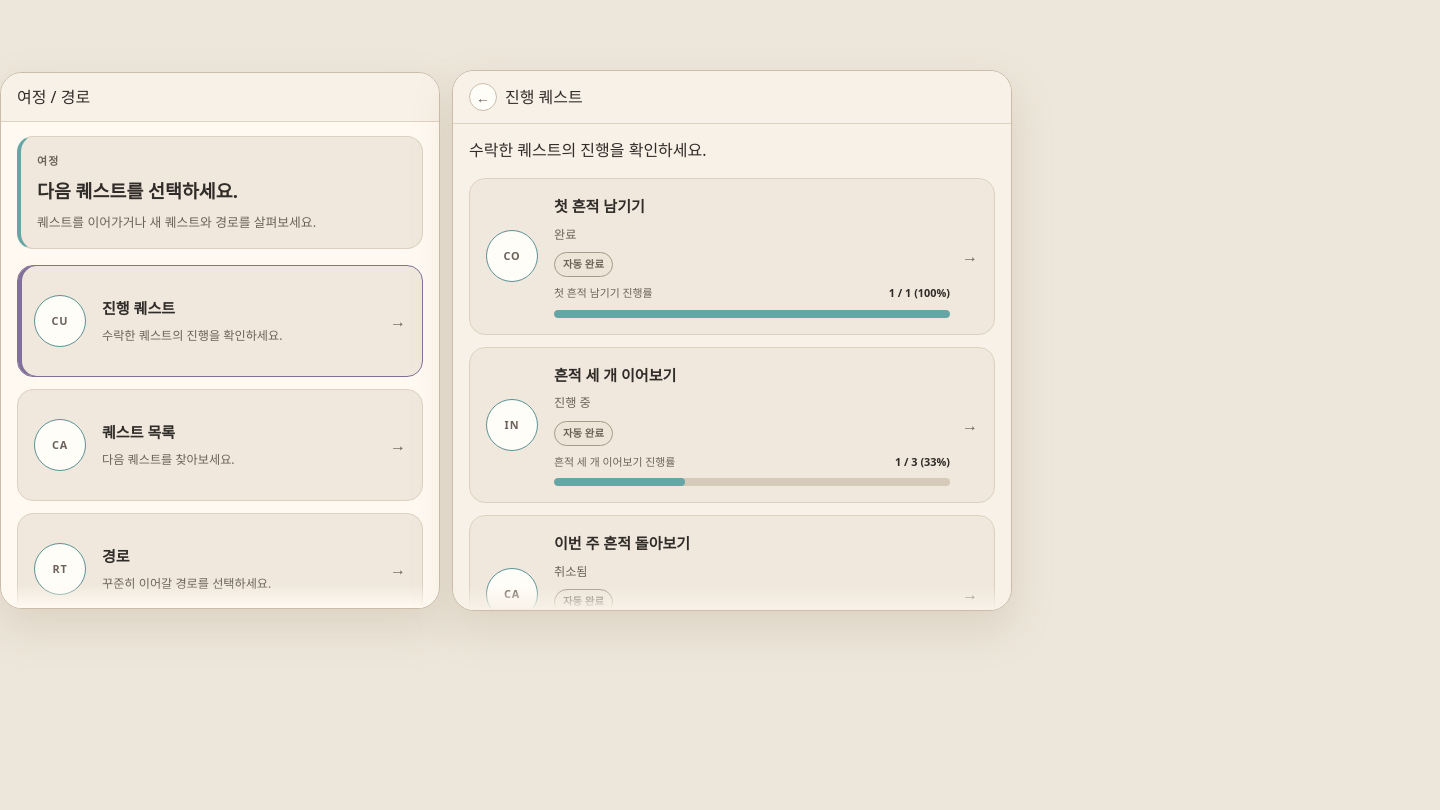
Test case: Journey에서 Quest와 QuestRoute를 볼 때 › Quest detail 선택을 빠르게 바꾸면 › stale success가 최신 Quest detail을 덮어쓰지 않는다
Click the button "IN 흔적 세 개 이어보기 진행 중 자동 완료 흔적 세 개 이어보기 진행률 1 / 3 (33%) →".
click(512, 425)  # box [469,346,995,503]
(page scrolled)
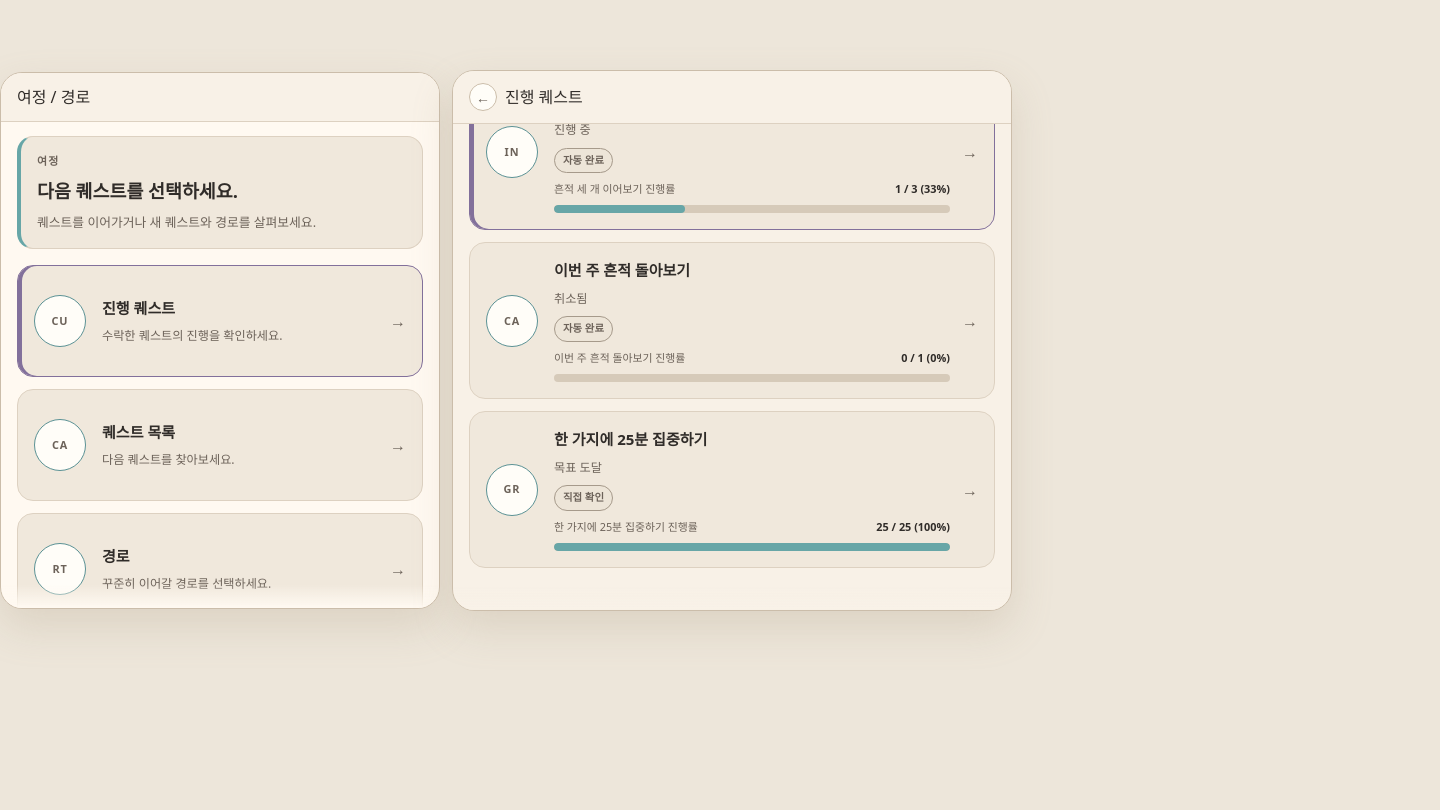
Click the button "한 가지에 25분 집중하기".
click(512, 489)  # box [469,411,995,567]
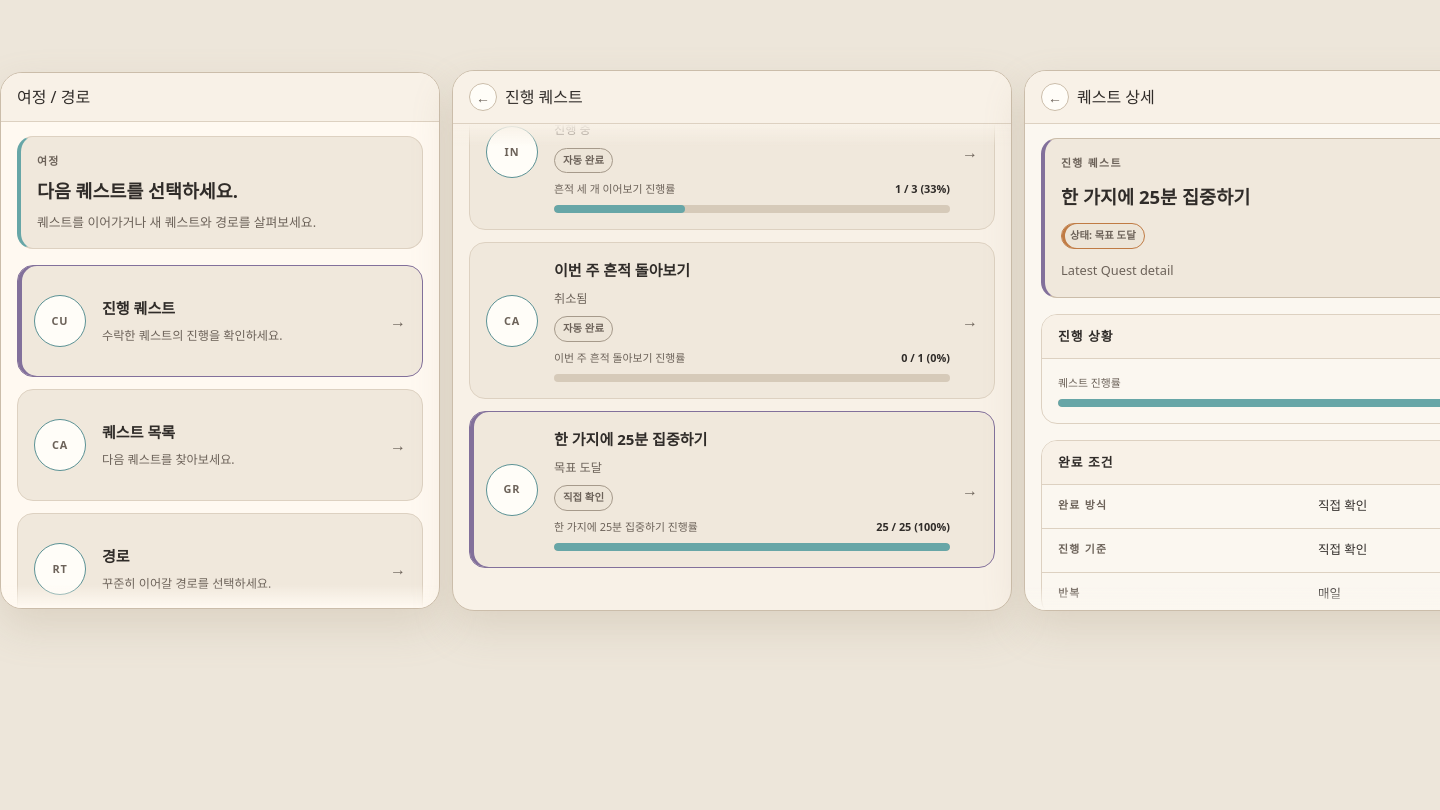
Check: the text "Latest Quest detail" is shown, box [1061,260,1174,278]
